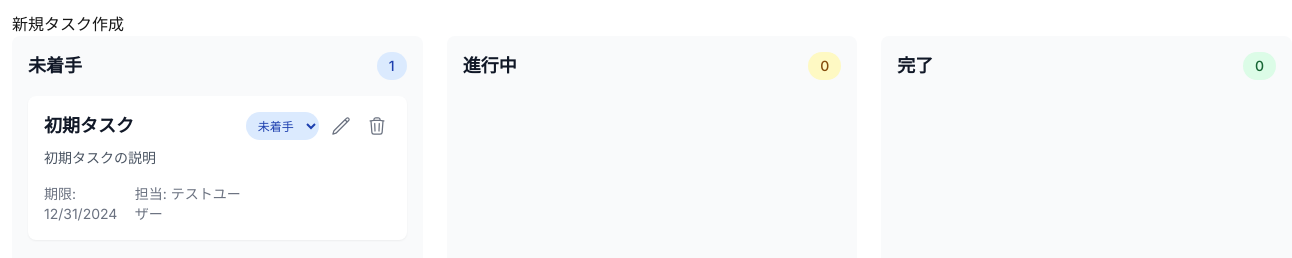
Test: TaskBoard Integration Tests › タスク削除フローが動作する
// 初期タスクの削除ボタンをクリック
Click the button with test id "delete-button-1": (377, 126) [363,112,391,140]
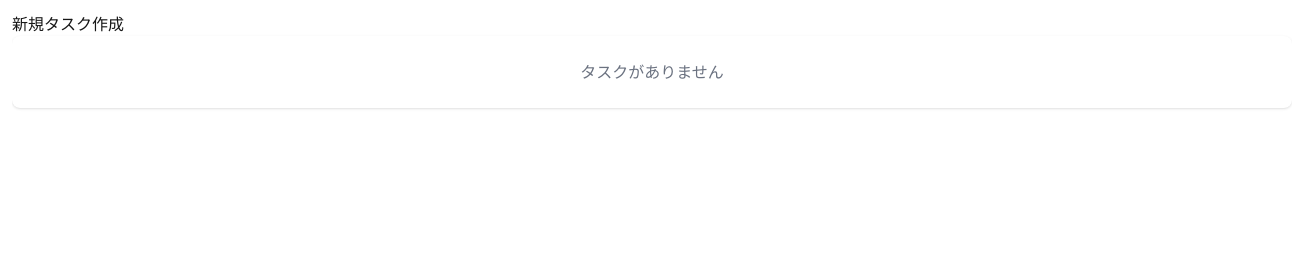
expect the heading "初期タスク" is gone: met
expect the text "タスクがありません" is shown: met, box [580,62,724,82]
